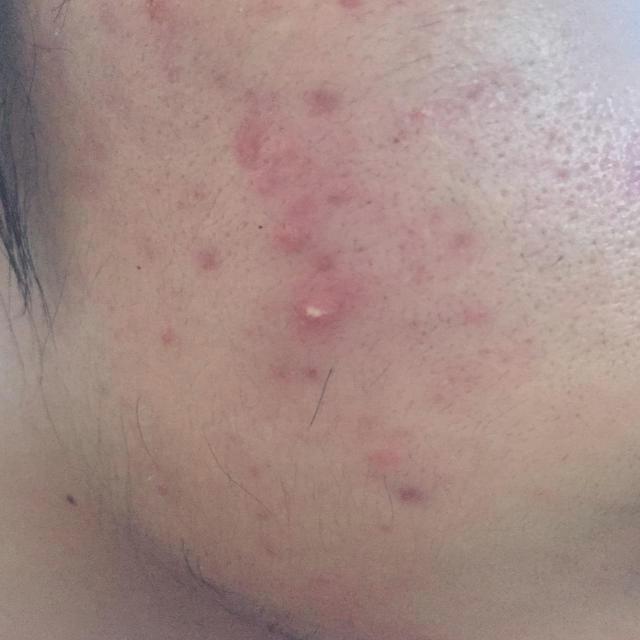Pimples: (280, 292, 348, 347)
